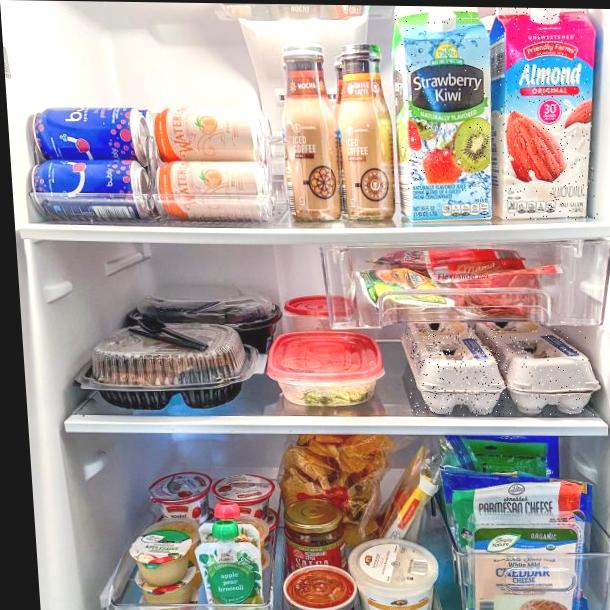eggs: (405, 327, 504, 416), (498, 329, 596, 416)
milk: (492, 8, 598, 220), (393, 8, 495, 218)
